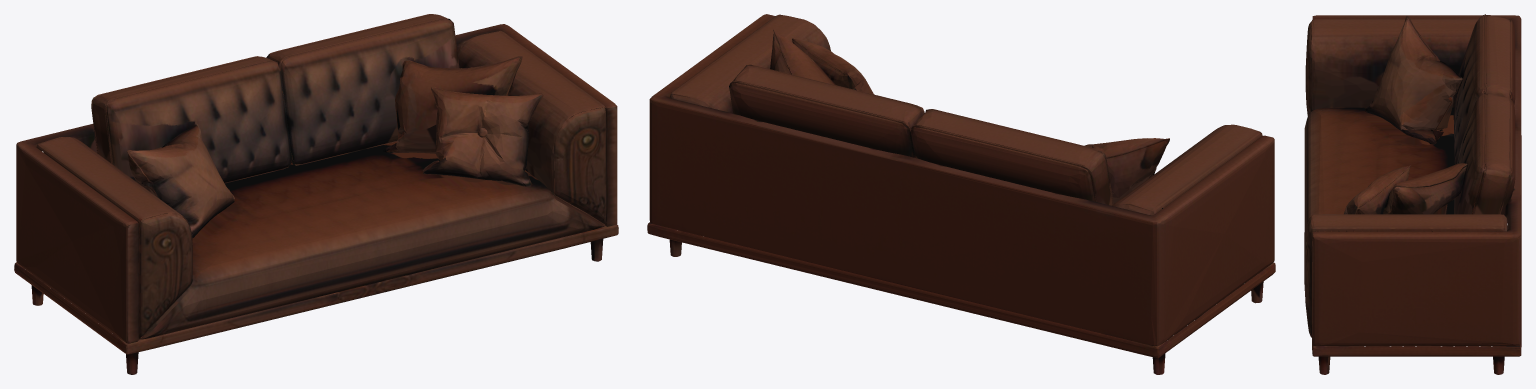
Rendered from edited_mesh.glb.
3 renders of one model, left to right at view 1: azimuth 30°, elevation 25°; view 2: azimuth 150°, elevation 25°; view 3: azimuth 270°, elevation 25°, orthographic. The views are drawn at different scales.
Parts seen in each view (by area): view 1: solid_001_wire; view 2: solid_001_wire; view 3: solid_001_wire.
Boxes of the visible parts, left/top/right/bottom form: solid_001_wire: left=14, top=14, right=618, bottom=374; solid_001_wire: left=647, top=14, right=1275, bottom=374; solid_001_wire: left=1304, top=14, right=1521, bottom=374.
Bounding box in the file's own units: 2 × 0.7464 × 0.8192.
1 material, 1 textured.
